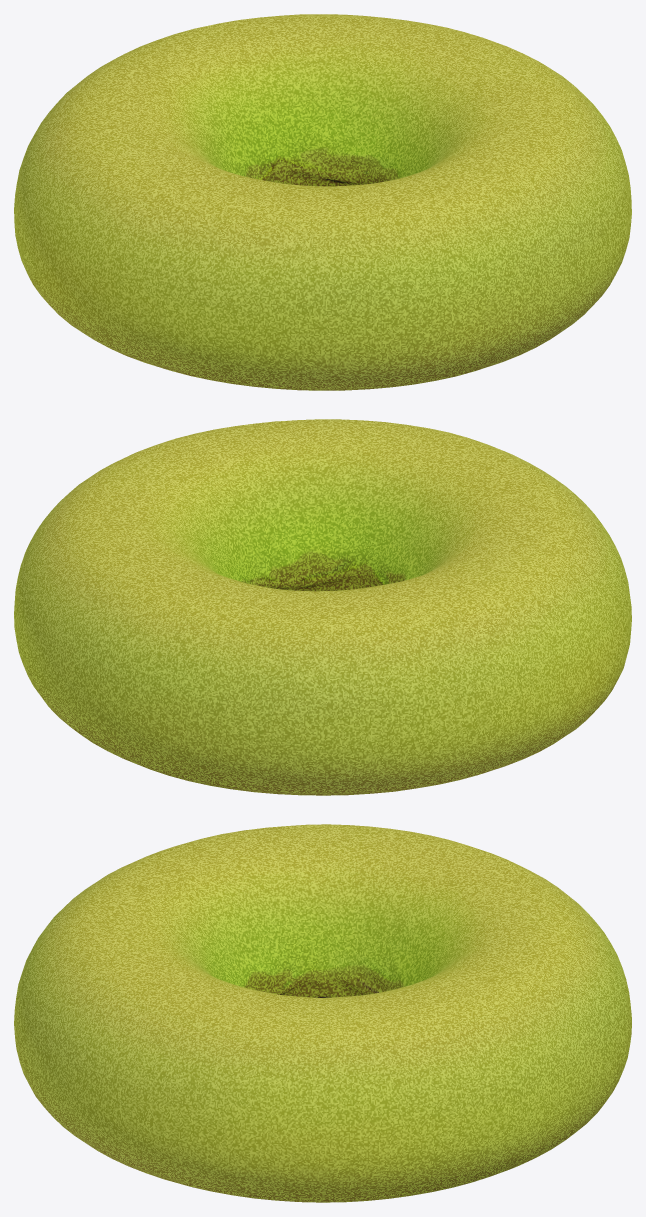
Rendered from torus_base_basic_shaded.glb.
The picture shows the model from 3 angles, top to bottom: view 1: azimuth 30°, elevation 25°; view 2: azimuth 150°, elevation 25°; view 3: azimuth 270°, elevation 25°; orthographic projection.
Parts seen in each view (by area): view 1: model; view 2: model; view 3: model.
Boxes of the visible parts, bbox=[...] form: model: bbox=[14, 14, 631, 390]; model: bbox=[14, 419, 631, 795]; model: bbox=[14, 824, 631, 1202].
Bounding box in the file's own units: 1.91 × 0.6025 × 1.89.
1 material, 1 textured.
